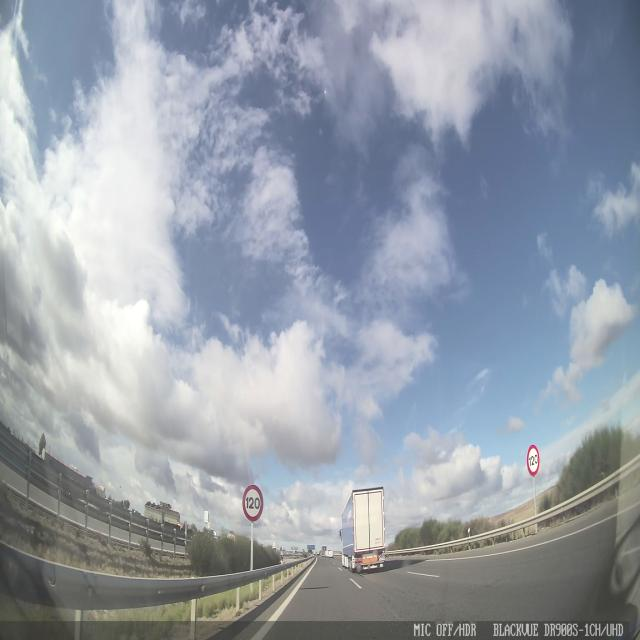car: (326, 549, 334, 559)
